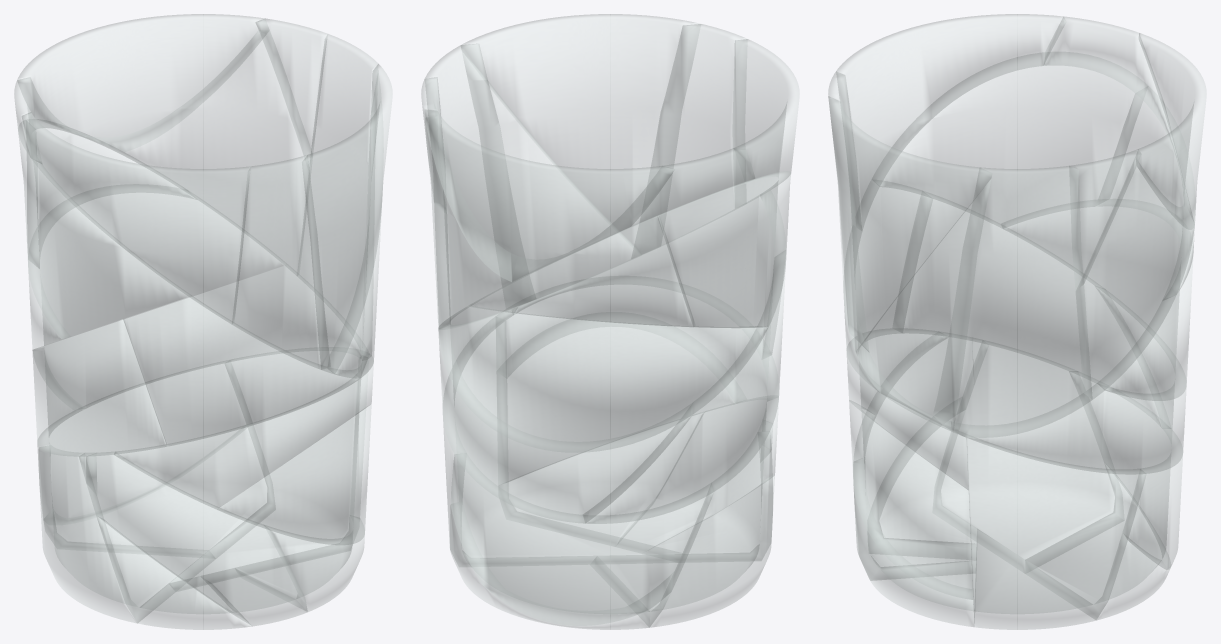
The model's file is fragments.glb.
3 views of the same model, side by side, from view 1: azimuth 30°, elevation 25°; view 2: azimuth 150°, elevation 25°; view 3: azimuth 270°, elevation 25° (orthographic).
Parts seen in each view (by area): view 1: fragment-013-clear, fragment-005-clear, fragment-000-clear, fragment-012-clear, fragment-006-clear, fragment-008-clear, fragment-015-clear, fragment-011-clear, fragment-023-clear, fragment-003-clear, fragment-017-clear, fragment-002-clear (+11 smaller); view 2: fragment-005-clear, fragment-017-clear, fragment-011-clear, fragment-012-clear, fragment-020-clear, fragment-008-clear, fragment-014-clear, fragment-002-clear, fragment-003-clear, fragment-019-clear, fragment-000-clear, fragment-004-clear (+11 smaller); view 3: fragment-003-clear, fragment-019-clear, fragment-000-clear, fragment-004-clear, fragment-013-clear, fragment-014-clear, fragment-006-clear, fragment-017-clear, fragment-005-clear, fragment-008-clear, fragment-016-clear, fragment-020-clear (+11 smaller).
Part boxes in pixels (bbox=[...]): fragment-013-clear: bbox=[14, 30, 310, 275]; fragment-005-clear: bbox=[28, 192, 283, 348]; fragment-000-clear: bbox=[169, 351, 367, 583]; fragment-012-clear: bbox=[17, 14, 268, 151]; fragment-006-clear: bbox=[22, 112, 250, 323]; fragment-008-clear: bbox=[33, 266, 361, 407]; fragment-015-clear: bbox=[123, 296, 366, 446]; fragment-011-clear: bbox=[37, 363, 246, 518]; fragment-023-clear: bbox=[86, 452, 307, 625]; fragment-003-clear: bbox=[297, 34, 378, 360]; fragment-017-clear: bbox=[302, 64, 392, 373]; fragment-002-clear: bbox=[232, 155, 329, 369]; fragment-005-clear: bbox=[438, 306, 768, 452]; fragment-017-clear: bbox=[461, 14, 700, 244]; fragment-011-clear: bbox=[451, 454, 713, 625]; fragment-012-clear: bbox=[425, 109, 674, 281]; fragment-020-clear: bbox=[507, 326, 734, 481]; fragment-008-clear: bbox=[439, 306, 692, 523]; fragment-014-clear: bbox=[583, 250, 785, 523]; fragment-002-clear: bbox=[631, 24, 746, 258]; fragment-003-clear: bbox=[425, 44, 535, 326]; fragment-019-clear: bbox=[657, 171, 790, 327]; fragment-000-clear: bbox=[443, 321, 682, 566]; fragment-004-clear: bbox=[597, 431, 772, 627]; fragment-003-clear: bbox=[933, 166, 1092, 437]; fragment-019-clear: bbox=[880, 52, 1147, 228]; fragment-000-clear: bbox=[966, 437, 1146, 629]; fragment-004-clear: bbox=[941, 345, 1114, 559]; fragment-013-clear: bbox=[1044, 17, 1194, 398]; fragment-014-clear: bbox=[903, 199, 1162, 428]; fragment-006-clear: bbox=[836, 14, 1065, 229]; fragment-017-clear: bbox=[828, 96, 991, 351]; fragment-005-clear: bbox=[1003, 206, 1193, 400]; fragment-008-clear: bbox=[953, 286, 1186, 474]; fragment-016-clear: bbox=[856, 180, 990, 431]; fragment-020-clear: bbox=[849, 400, 972, 599].
Size of the model in its own units: 0.08 by 0.11 by 0.08.
Materials: 1 (1 with a texture image).
